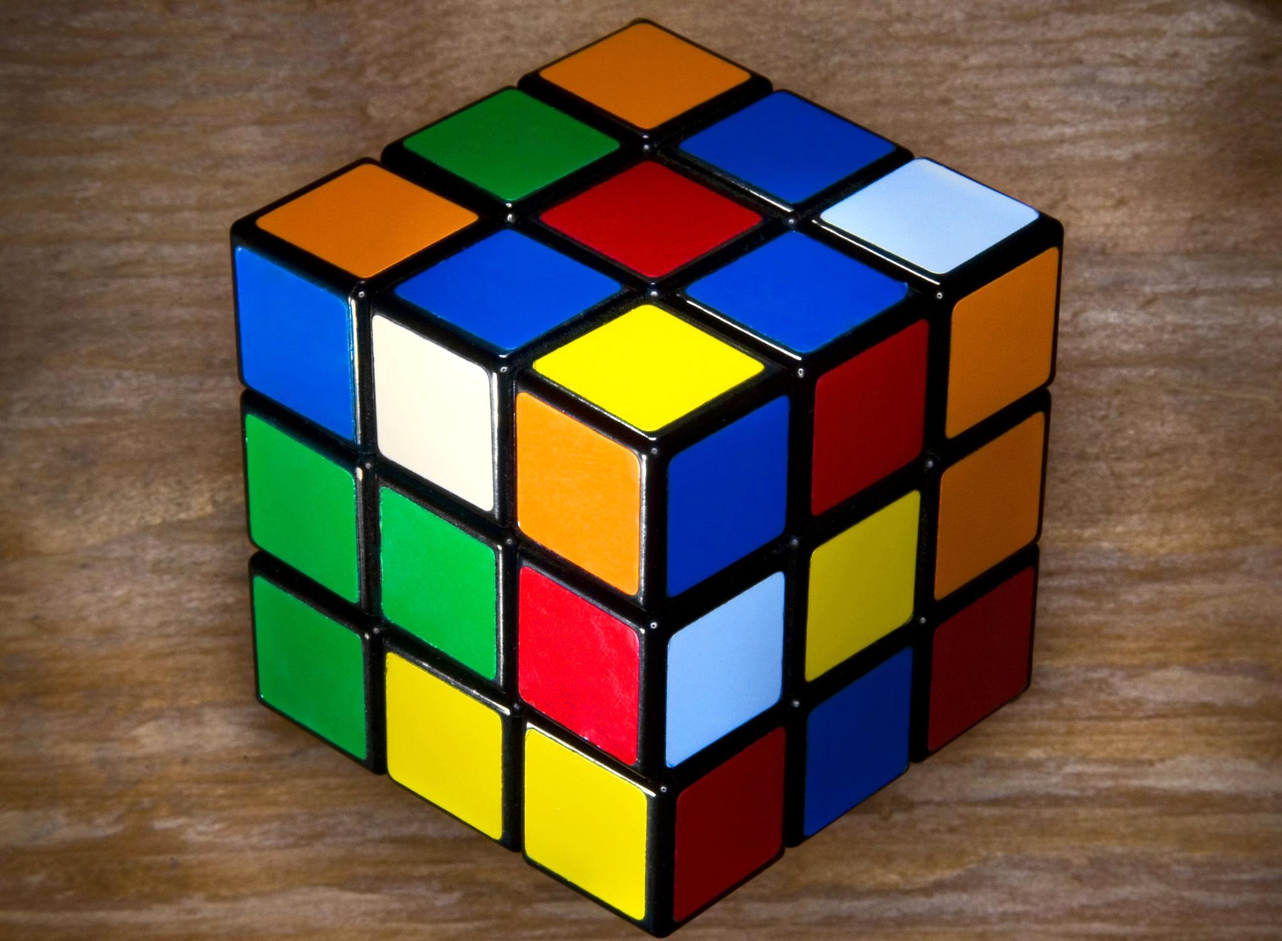rubiks_cube: (235, 25, 1060, 920)
